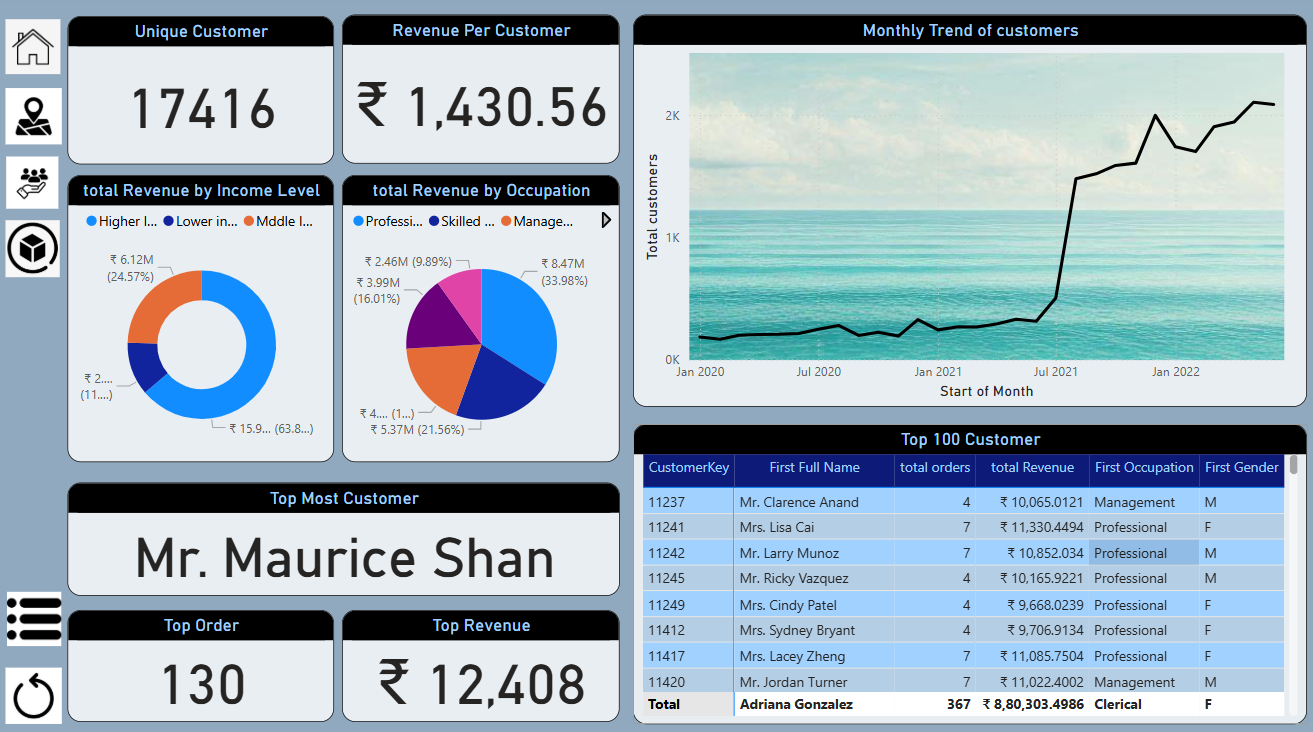

Layout of this report page (visuals, bound fields, positions):
{"tool":"powerbi","page":{"name":"Customers ","canvas":[1280,720],"ordinal":3},"visuals":[{"type":"shape","box":[65,13.5,300,700],"z":0,"group":"g1"},{"type":"card","title":"Unique Customer","fields":{"Values":["Measure.Total customers"]},"box":[65,20,258.8,143.8],"z":0},{"type":"image","box":[0,17.9,63.4,65.1],"z":1000},{"type":"slicer","fields":{"Values":["Territory Lookup.Continent"]},"box":[113,277.5,166,166],"z":1000,"group":"g1"},{"type":"card","title":"Revenue Per Customer","fields":{"Values":["Measure.Avg revenue per customer"]},"box":[332.1,19.6,269.6,144.6],"z":2000},{"type":"slicer","fields":{"Values":["Calendar Lookup.Year"]},"box":[107,75.5,124,146],"z":2000,"group":"g1"},{"type":"image","box":[305,7.5,62,64],"z":3000,"group":"g1"},{"type":"image","box":[0,644.1,64.8,72.9],"z":3000},{"type":"donutChart","fields":{"Category":["Customer Lookup.Income Level"],"Y":["Measure.total Revenue"]},"box":[65,175,258.8,278.8],"z":4000},{"type":"image","box":[2,569.1,62.8,72.9],"z":5000},{"type":"pieChart","fields":{"Y":["Measure.total Revenue"],"Category":["Customer Lookup.Occupation"]},"box":[332.1,175,269.6,278.6],"z":6000},{"type":"image","box":[0,212.7,62.8,66.8],"z":7000},{"type":"lineChart","title":"Monthly Trend of customers","fields":{"Category":["Calendar Lookup.Date Hierarchy.Start of Year","Calendar Lookup.Date Hierarchy.Start of Month","Calendar Lookup.Date Hierarchy.Start of Week","Calendar Lookup.Date Hierarchy.Date"],"Y":["Measure.Total customers"]},"box":[614.6,18.2,654.3,381],"z":8000},{"type":"image","box":[0,83,64.8,68.9],"z":9000},{"type":"pivotTable","title":"Top 100 Customer","fields":{"Rows":["Customer Lookup.CustomerKey"],"Values":["Customer Lookup.Full Name","Measure.total orders","Measure.total Revenue","Customer Lookup.Occupation","Customer Lookup.Gender"]},"box":[614.6,415.8,654.3,291.5],"z":10000},{"type":"image","box":[0,151.9,62.8,60.8],"z":11000},{"type":"card","title":"Top Most Customer","fields":{"Values":["Customer Lookup.Full Name"]},"box":[65,473.8,536.2,110],"z":12000},{"type":"card","title":"Top Order","fields":{"Values":["Measure.total orders"]},"box":[65,596.2,258.8,108.8],"z":13000},{"type":"card","title":"Top Revenue","fields":{"Values":["Measure.total Revenue"]},"box":[332.1,596.4,269.6,108.9],"z":14000},{"type":"group","id":"g1","title":"Group 1","box":[65,7.5,302.5,705],"z":15000}]}

Visuals, with their boxes on the page's 1280x720 design canvas (x1, y1, x2, y2). These are canvas units, not pixel positions in the 1313x732 screenshot, which may show the page scaled, cropped or inside an application window:
shape: x1=65, y1=14, x2=365, y2=714
"Unique Customer" card: x1=65, y1=20, x2=324, y2=164
image: x1=0, y1=18, x2=63, y2=83
slicer - Territory Lookup.Continent: x1=113, y1=278, x2=279, y2=444
"Revenue Per Customer" card: x1=332, y1=20, x2=602, y2=164
slicer - Calendar Lookup.Year: x1=107, y1=76, x2=231, y2=222
image: x1=305, y1=8, x2=367, y2=72
image: x1=0, y1=644, x2=65, y2=717
donutChart - Customer Lookup.Income Level x Measure.total Revenue: x1=65, y1=175, x2=324, y2=454
image: x1=2, y1=569, x2=65, y2=642
pieChart - Measure.total Revenue x Customer Lookup.Occupation: x1=332, y1=175, x2=602, y2=454
image: x1=0, y1=213, x2=63, y2=280
"Monthly Trend of customers" lineChart: x1=615, y1=18, x2=1269, y2=399
image: x1=0, y1=83, x2=65, y2=152
"Top 100 Customer" pivotTable: x1=615, y1=416, x2=1269, y2=707
image: x1=0, y1=152, x2=63, y2=213
"Top Most Customer" card: x1=65, y1=474, x2=601, y2=584
"Top Order" card: x1=65, y1=596, x2=324, y2=705
"Top Revenue" card: x1=332, y1=596, x2=602, y2=705
"Group 1" group: x1=65, y1=8, x2=368, y2=712
